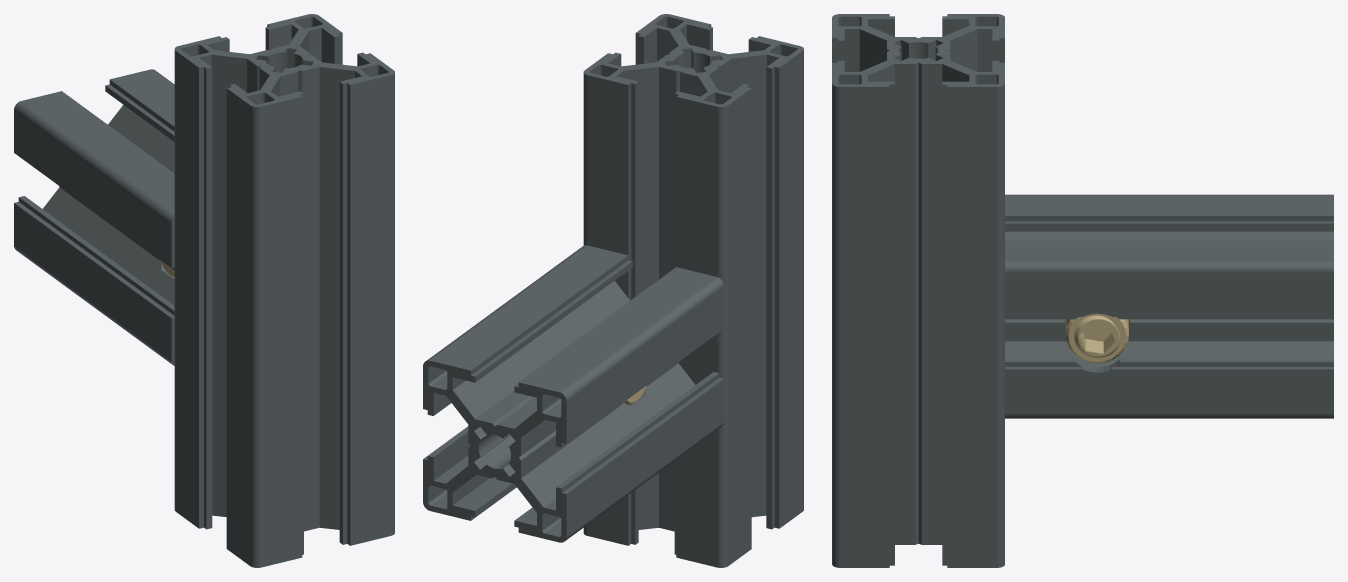
File: frame-side-joint-5211.glb
The picture shows the model from 3 angles, left to right: view 1: azimuth 30°, elevation 25°; view 2: azimuth 150°, elevation 25°; view 3: azimuth 270°, elevation 25°; orthographic projection. The views are drawn at different scales.
Visible parts, largest first — view 1: Post-966-23, Beam-right-shelf-1; view 2: Post-966-23, Beam-right-shelf-1; view 3: Post-966-23, Beam-right-shelf-1, RSI-5211::Beam-right-shelf-1-A::3, RSI-5211::Beam-right-shelf-1-A::2.
Part boxes in pixels (x1=…): Post-966-23: x1=174, y1=14, x2=394, y2=567; Beam-right-shelf-1: x1=14, y1=69, x2=174, y2=365; Post-966-23: x1=583, y1=14, x2=803, y2=567; Beam-right-shelf-1: x1=423, y1=245, x2=723, y2=542; Post-966-23: x1=832, y1=14, x2=1004, y2=567; Beam-right-shelf-1: x1=1005, y1=194, x2=1333, y2=418; RSI-5211::Beam-right-shelf-1-A::3: x1=1074, y1=315, x2=1120, y2=357; RSI-5211::Beam-right-shelf-1-A::2: x1=1065, y1=313, x2=1128, y2=363.
Bounding box in the file's own units: 0.03 × 0.092 × 0.087.
